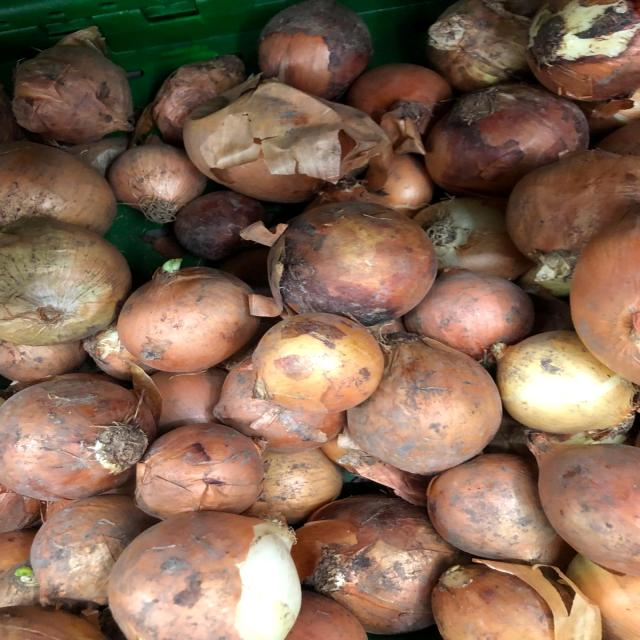onion: (268, 194, 443, 326), (116, 252, 260, 376), (488, 326, 640, 441), (256, 305, 387, 413), (136, 417, 271, 517), (105, 129, 212, 227)
